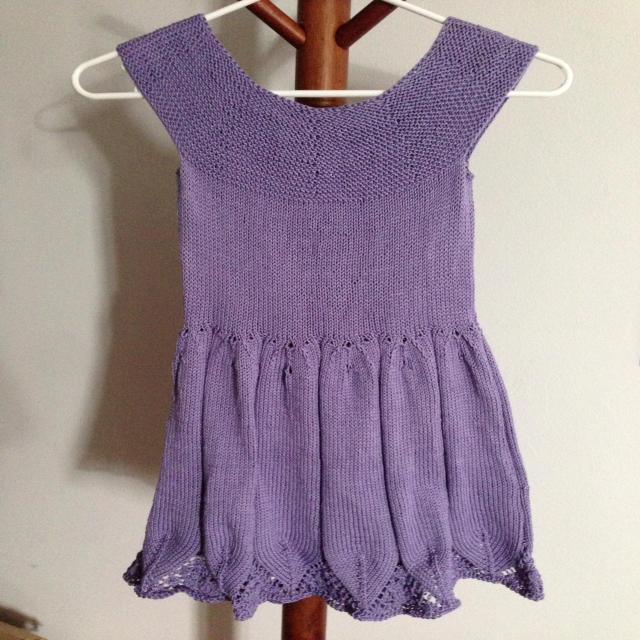Dress: (111, 0, 556, 620)
